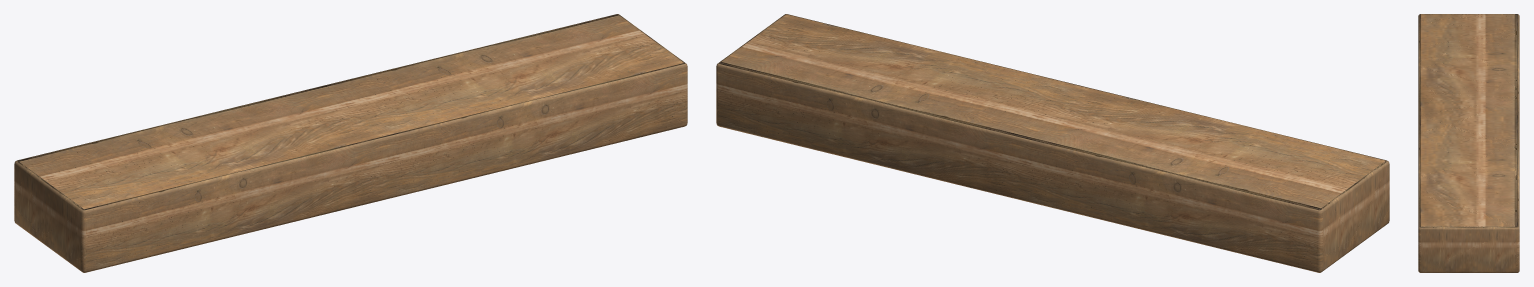
The model's file is Plank.fbx.
3 renders of one model, left to right at view 1: azimuth 30°, elevation 25°; view 2: azimuth 150°, elevation 25°; view 3: azimuth 270°, elevation 25°, orthographic. The views are drawn at different scales.
Parts seen in each view (by area): view 1: Cube_fracturepart9, Cube_fracturepart12, Cube_fracturepart18, Cube_fracturepart20, Cube_fracturepart11, Cube_fracturepart17, Cube_fracturepart1, Cube_fracturepart4, Cube_fracturepart13, Cube_fracturepart8, Cube_fracturepart10, Cube_fracturepart14 (+5 smaller); view 2: Cube_fracturepart2, Cube_fracturepart10, Cube_fracturepart20, Cube_fracturepart13, Cube_fracturepart18, Cube_fracturepart9, Cube_fracturepart1, Cube_fracturepart15, Cube_fracturepart5, Cube_fracturepart14, Cube_fracturepart12, Cube_fracturepart17 (+7 smaller); view 3: Cube_fracturepart17, Cube_fracturepart18, Cube_fracturepart20, Cube_fracturepart9, Cube_fracturepart13, Cube_fracturepart10, Cube_fracturepart12, Cube_fracturepart14, Cube_fracturepart2, Cube_fracturepart6, Cube_fracturepart1, Cube_fracturepart5 (+4 smaller).
Part boxes in pixels (x1,y1,x2,y2): Cube_fracturepart9: [383, 75, 552, 184]; Cube_fracturepart12: [68, 146, 175, 272]; Cube_fracturepart18: [549, 14, 687, 159]; Cube_fracturepart20: [479, 24, 579, 145]; Cube_fracturepart11: [329, 117, 446, 213]; Cube_fracturepart17: [593, 15, 687, 124]; Cube_fracturepart1: [24, 152, 103, 261]; Cube_fracturepart4: [237, 147, 335, 235]; Cube_fracturepart13: [229, 102, 378, 184]; Cube_fracturepart8: [141, 151, 237, 251]; Cube_fracturepart10: [253, 71, 393, 118]; Cube_fracturepart14: [165, 109, 235, 184]; Cube_fracturepart2: [1117, 160, 1262, 254]; Cube_fracturepart10: [952, 97, 1083, 215]; Cube_fracturepart20: [760, 40, 930, 157]; Cube_fracturepart13: [1053, 91, 1154, 221]; Cube_fracturepart18: [716, 36, 892, 144]; Cube_fracturepart9: [929, 49, 1053, 113]; Cube_fracturepart1: [1276, 156, 1389, 244]; Cube_fracturepart15: [1253, 195, 1352, 257]; Cube_fracturepart5: [850, 79, 949, 145]; Cube_fracturepart14: [1106, 124, 1255, 205]; Cube_fracturepart12: [1259, 138, 1389, 233]; Cube_fracturepart17: [720, 14, 877, 61]; Cube_fracturepart17: [1418, 194, 1515, 271]; Cube_fracturepart18: [1418, 189, 1519, 272]; Cube_fracturepart20: [1418, 165, 1519, 212]; Cube_fracturepart9: [1418, 127, 1506, 177]; Cube_fracturepart13: [1418, 89, 1519, 125]; Cube_fracturepart10: [1449, 98, 1519, 144]; Cube_fracturepart12: [1418, 21, 1517, 46]; Cube_fracturepart14: [1418, 56, 1519, 90]; Cube_fracturepart2: [1472, 34, 1519, 83]; Cube_fracturepart6: [1418, 67, 1506, 93]; Cube_fracturepart1: [1418, 14, 1511, 30]; Cube_fracturepart5: [1466, 148, 1519, 180].
Size of the model in its own units: 200 by 20 by 40.
Materials: 1 (1 with a texture image).
